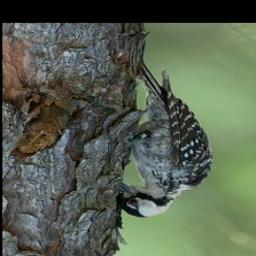Woodpecker: (116, 62, 216, 218)
